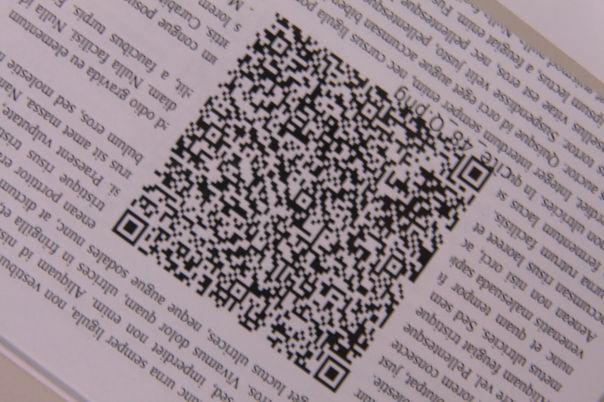Finder pattern: (110, 209, 154, 248), (311, 355, 353, 393), (455, 156, 497, 193)
